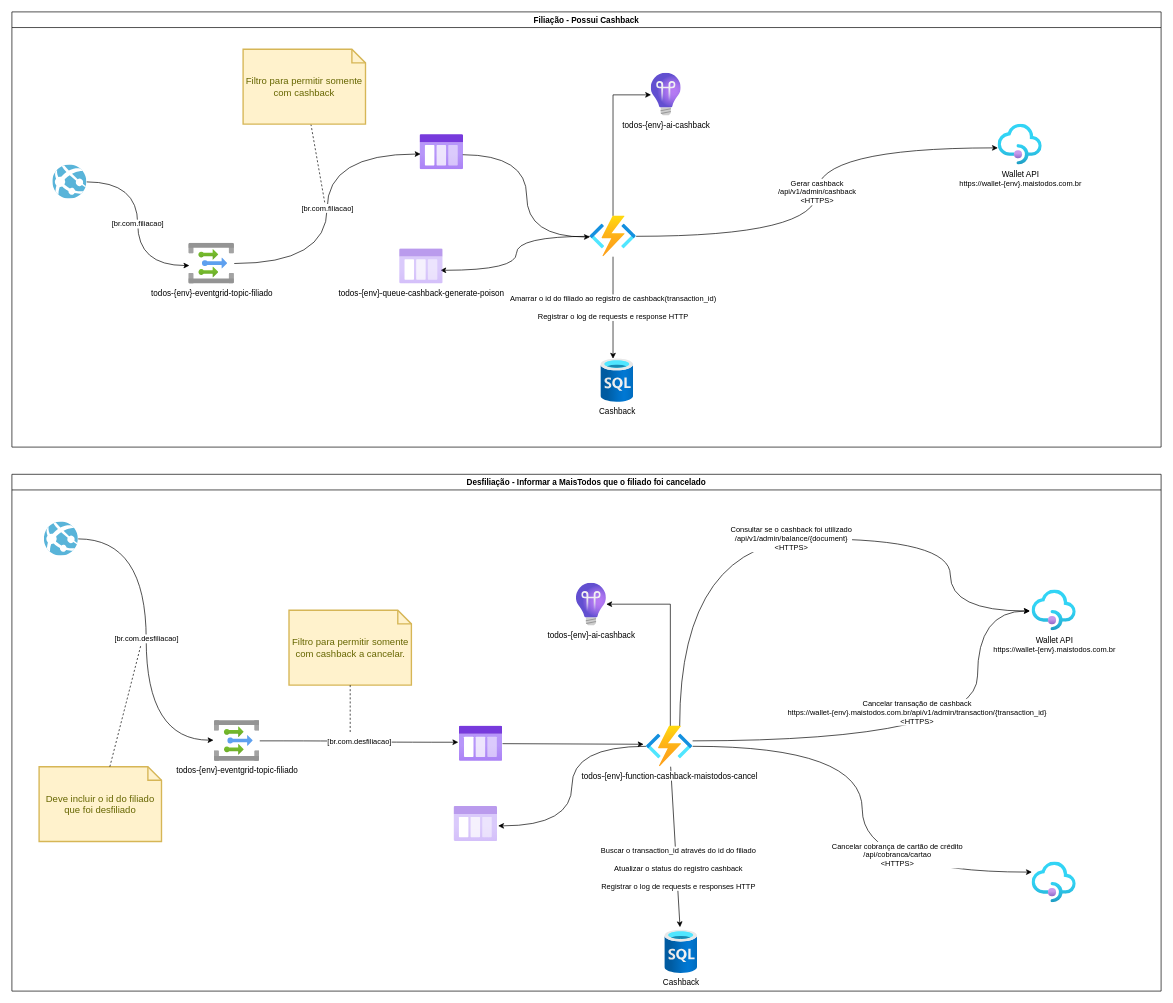
This 1173x1003 diagram has some shape labels left out. Each missing label, with the centre of its shape:
"API Filiado" belongs at point (69, 182).
"Cobranca API https://cobranca{env}.sistematodos.com.br" belongs at point (1054, 882).
"CTN" belongs at point (61, 539).
"todos-{env}-function-cashback-maistodos-generate" belongs at point (613, 236).
"todos-{env}-queue-cashback-cancel" belongs at point (480, 743).
"todos-{env}-queue-cashback-cancel-poison" belongs at point (475, 823).
"todos-{env}-queue-cashback-generate" belongs at point (441, 151).
